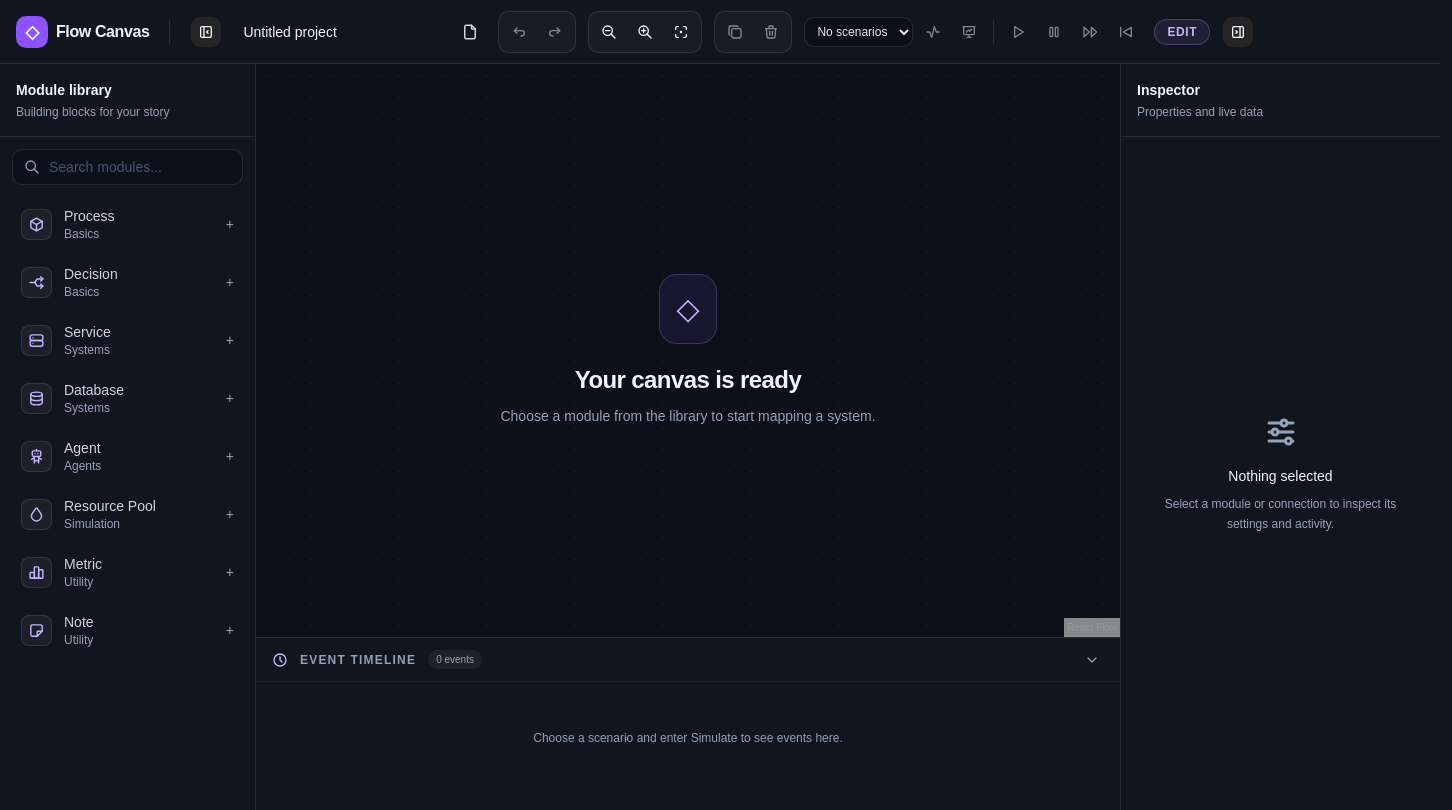
Test: studio shell › keeps panel toggles discoverable and focusable
The width and height of the screenshot is (1452, 810).
Click the button named "toggle modules": (206, 32) [190,16,222,48]
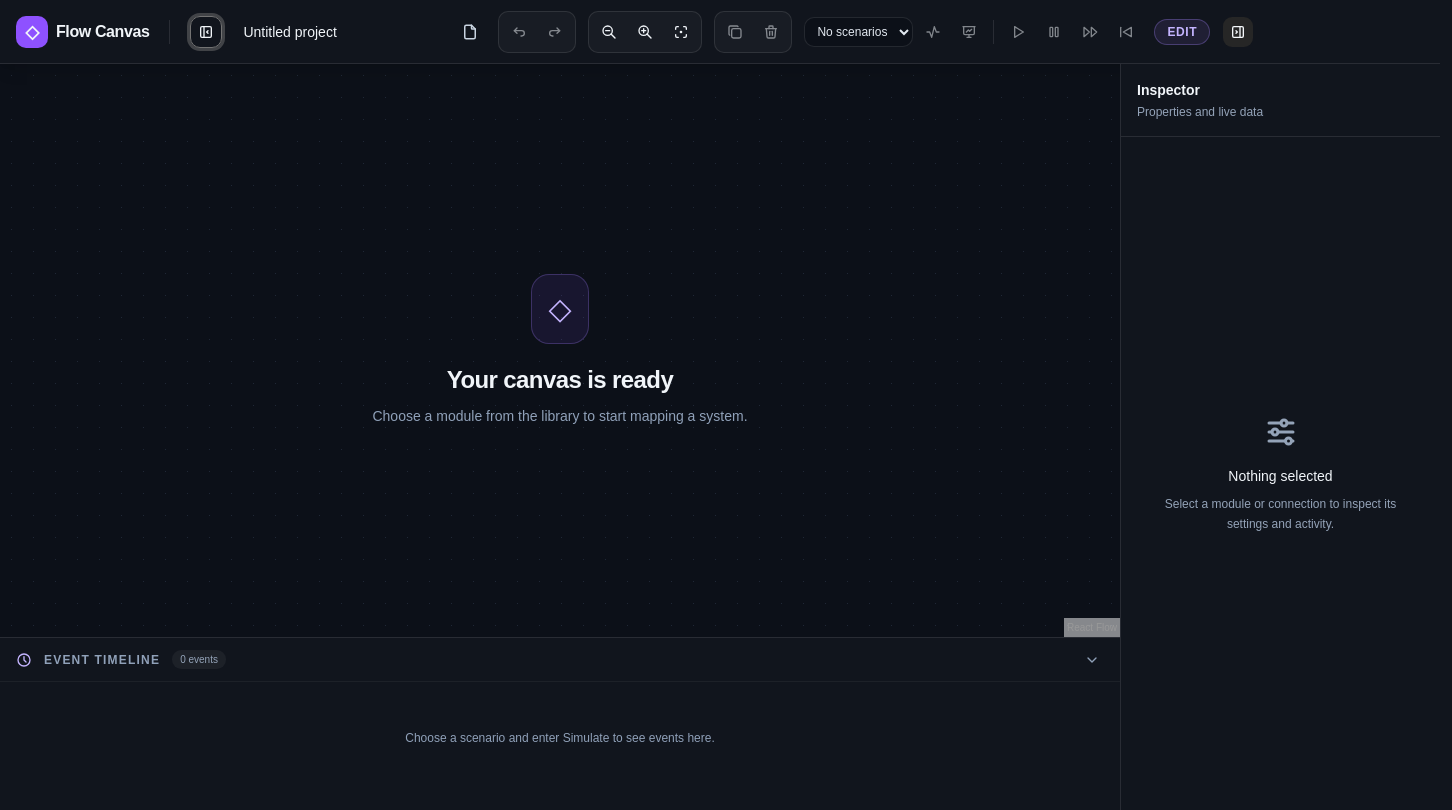
Expected: the search field labelled "modules" is gone
Click the button named "toggle modules": (206, 32) [190,16,222,48]
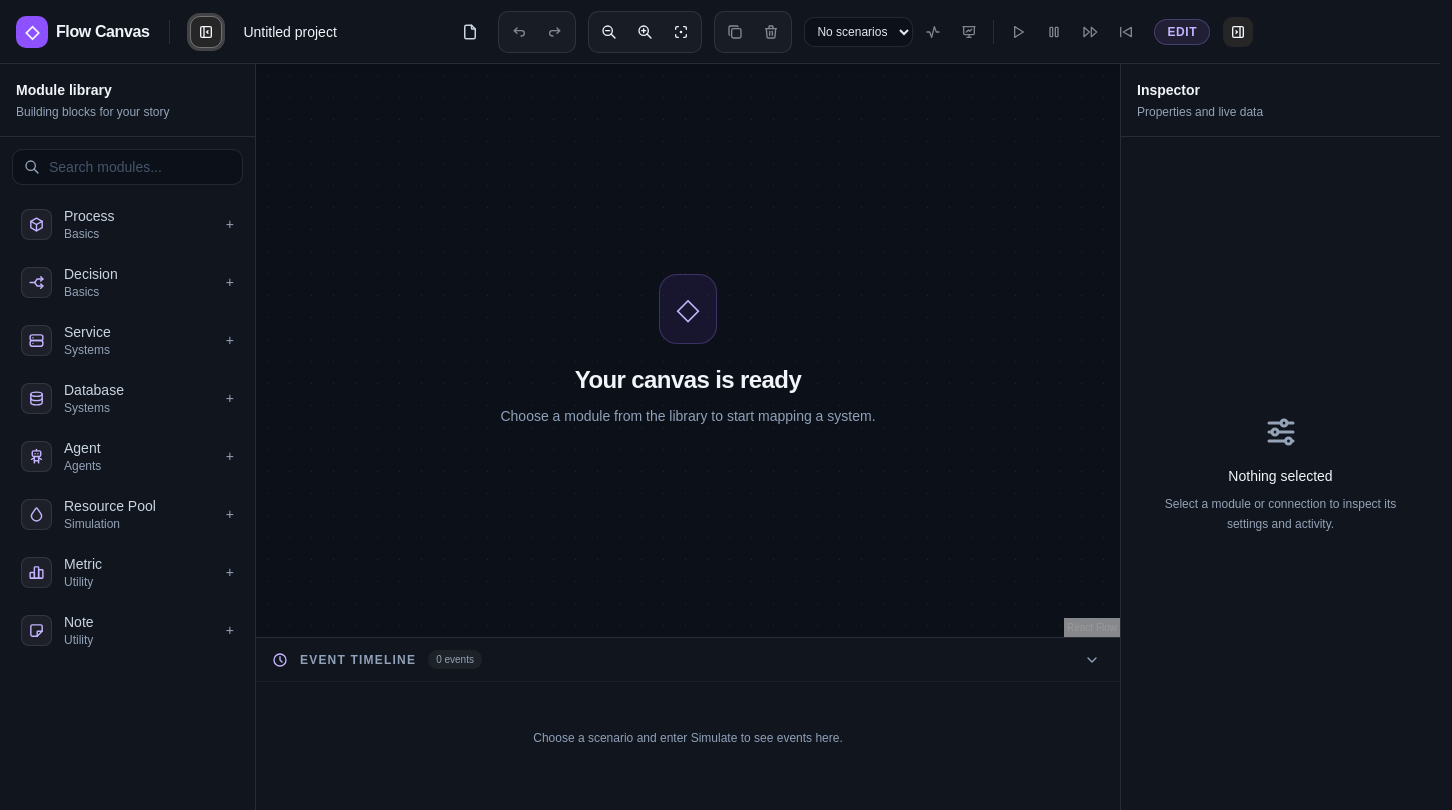
Expected: the element named "modules" is shown, [0,64,256,809]
Click the button named "toggle inspector": (1238, 32) [1222,16,1254,48]
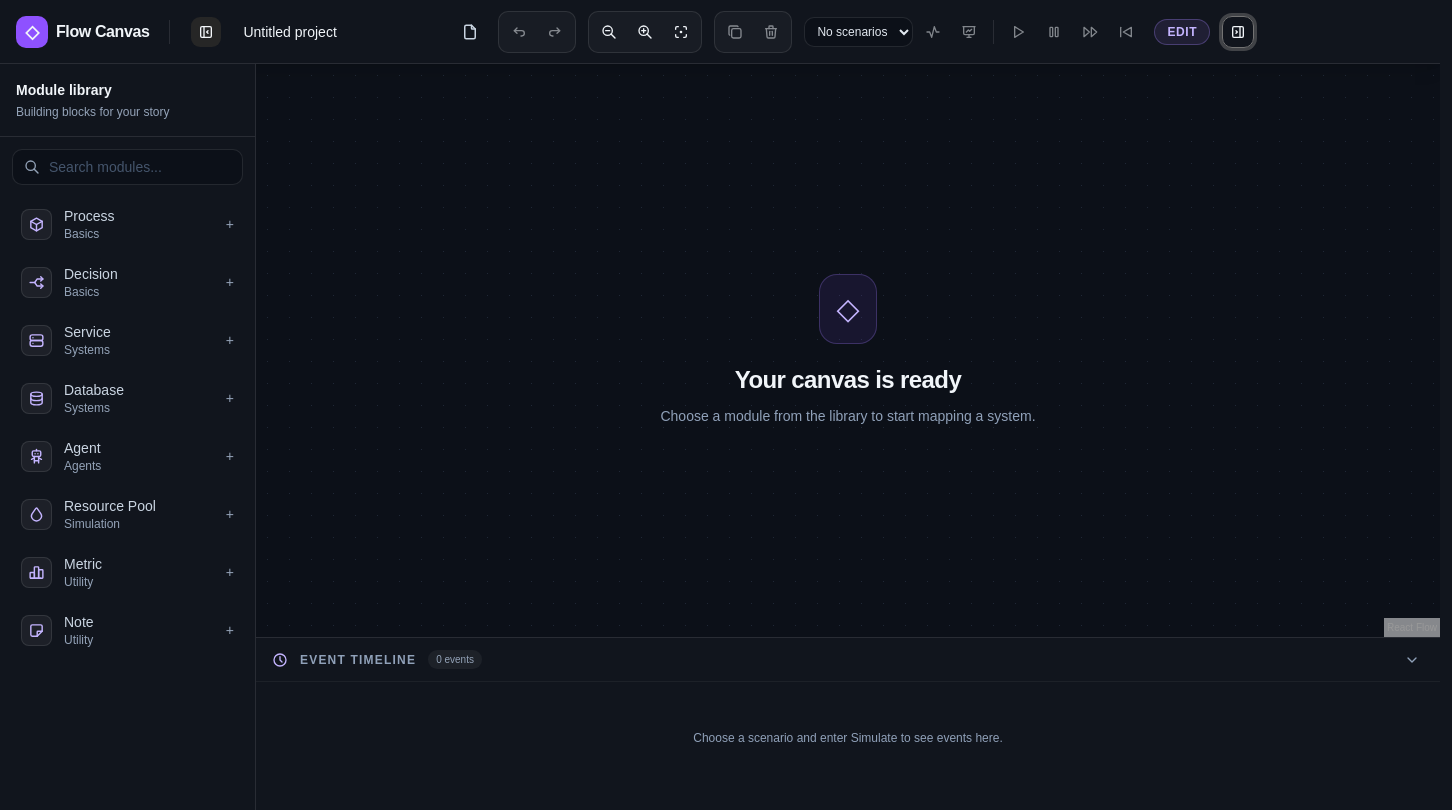
Expected: the heading "Inspector" is gone
